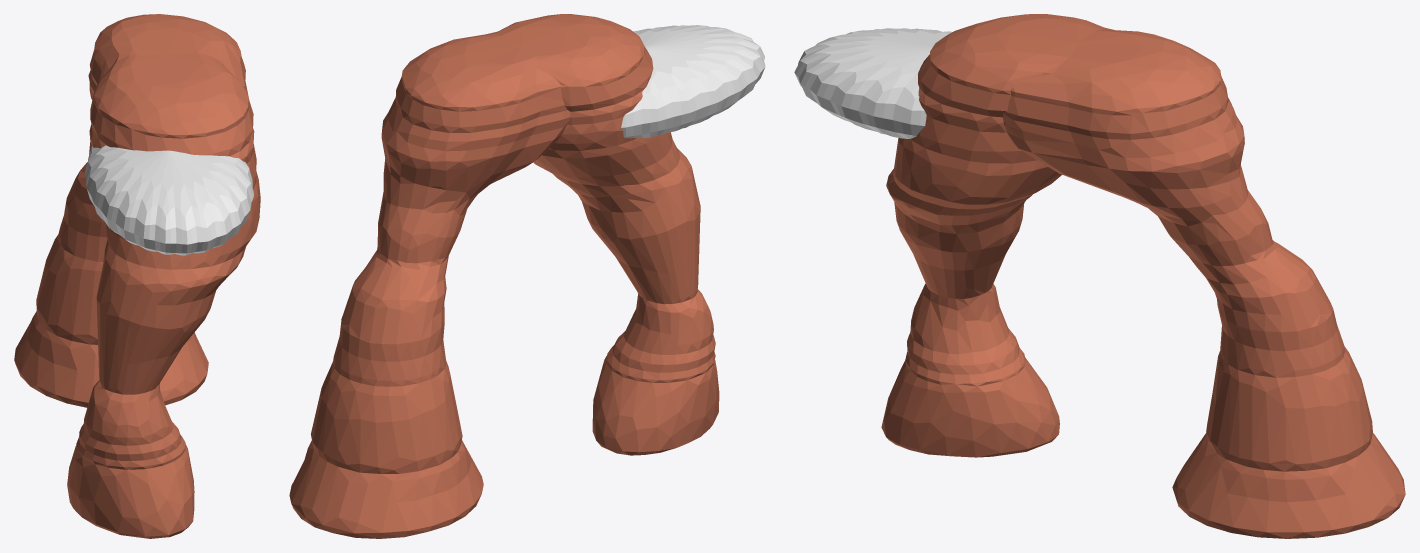
File: ArcoInt.fbx
3 views of the same model, side by side, from view 1: azimuth 30°, elevation 25°; view 2: azimuth 150°, elevation 25°; view 3: azimuth 270°, elevation 25° (orthographic). The views are drawn at different scales.
Visible parts, largest first — view 1: Cylinder, Cylinder.001; view 2: Cylinder, Cylinder.001; view 3: Cylinder, Cylinder.001.
Boxes of the visible parts, x1,y1,x2,y2 form: Cylinder: (14,14,260,538); Cylinder.001: (85,145,253,255); Cylinder: (289,14,719,538); Cylinder.001: (621,25,765,138); Cylinder: (881,14,1405,538); Cylinder.001: (794,28,952,138).
Bounding box in the file's own units: 403 × 591 × 742.
